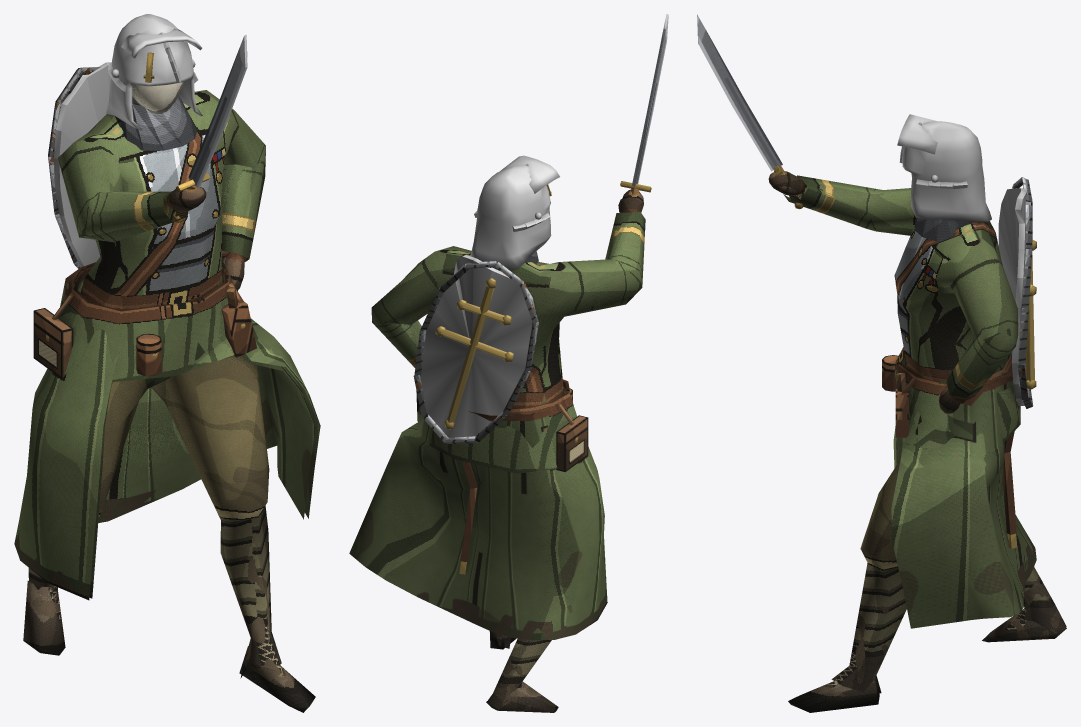
The model's file is lieutenant.glb.
The picture shows the model from 3 angles, left to right: view 1: azimuth 30°, elevation 25°; view 2: azimuth 150°, elevation 25°; view 3: azimuth 270°, elevation 25°; orthographic projection. The views are drawn at different scales.
Parts seen in each view (by area): view 1: Body, Coat, Accent, Hip, Helmet, Weapon, Back; view 2: Coat, Body, Accent, Back, Hip, Weapon; view 3: Body, Coat, Accent, Back, Weapon, Hip, Helmet.
Part boxes in pixels (x1,y1,x2,y2): Body: (23, 82, 315, 712); Coat: (14, 256, 320, 600); Accent: (54, 14, 202, 266); Hip: (33, 282, 256, 378); Helmet: (120, 52, 197, 150); Weapon: (172, 34, 247, 223); Back: (48, 67, 100, 268); Coat: (349, 387, 607, 639); Body: (371, 189, 645, 712); Accent: (420, 155, 559, 437); Back: (413, 261, 538, 443); Hip: (447, 388, 588, 574); Weapon: (620, 14, 668, 195); Body: (768, 171, 1066, 712); Coat: (891, 352, 1036, 628); Accent: (897, 114, 1026, 405); Back: (1012, 177, 1036, 408); Weapon: (697, 14, 803, 209); Hip: (882, 355, 1019, 548); Helmet: (914, 217, 975, 241).
Bounding box in the file's own units: 0.4736 × 1.2 × 0.6255.
7 materials, 6 textured.
